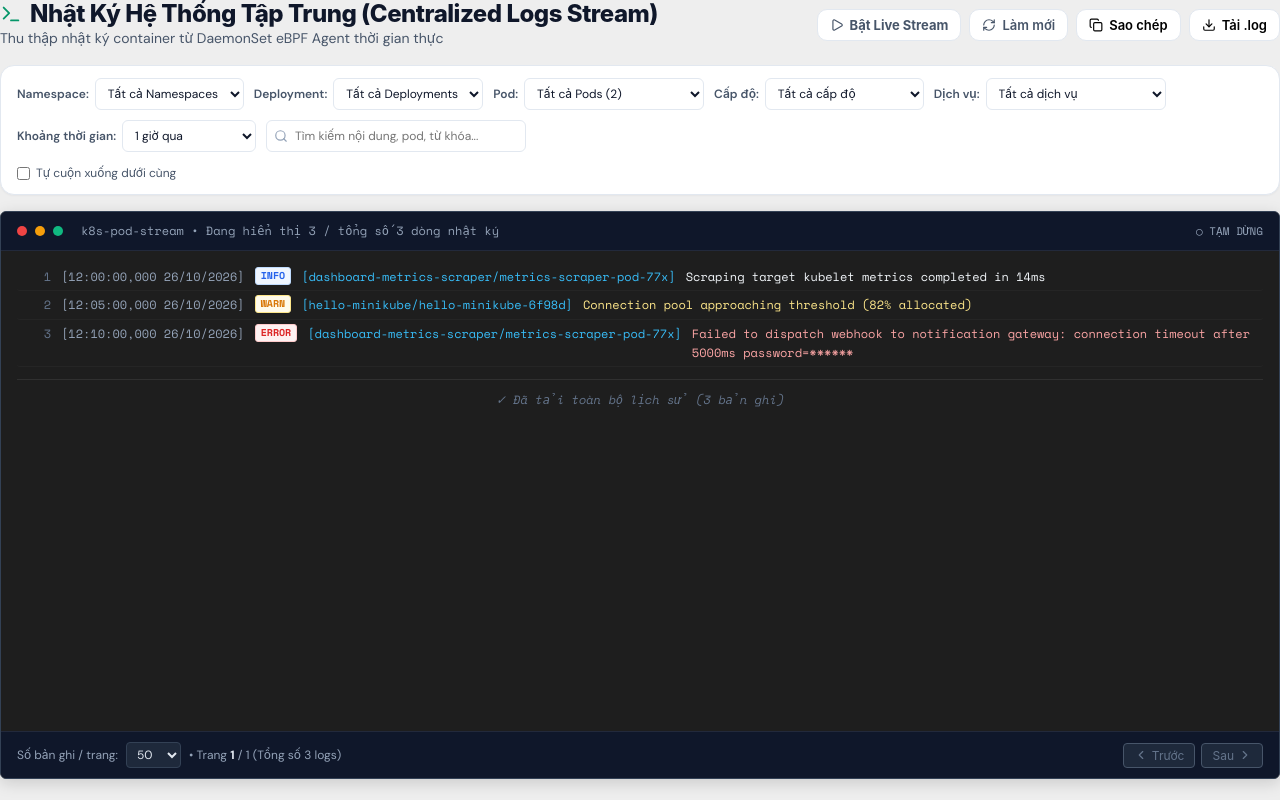
Test: Task [S4][PB17] 3.1 – Centralized Logs Viewer, Filters & Details Suite › 5. Log Detail Modal & Masking › 5.1. Clicking a log row opens detailed modal with message and metadata
Check: the text "Scraping target kubelet metrics completed in 14ms" is shown, box [686, 268, 1046, 285]
Click the element with test id "log-row-1001": x=640, y=277 [17, 263, 1263, 292]
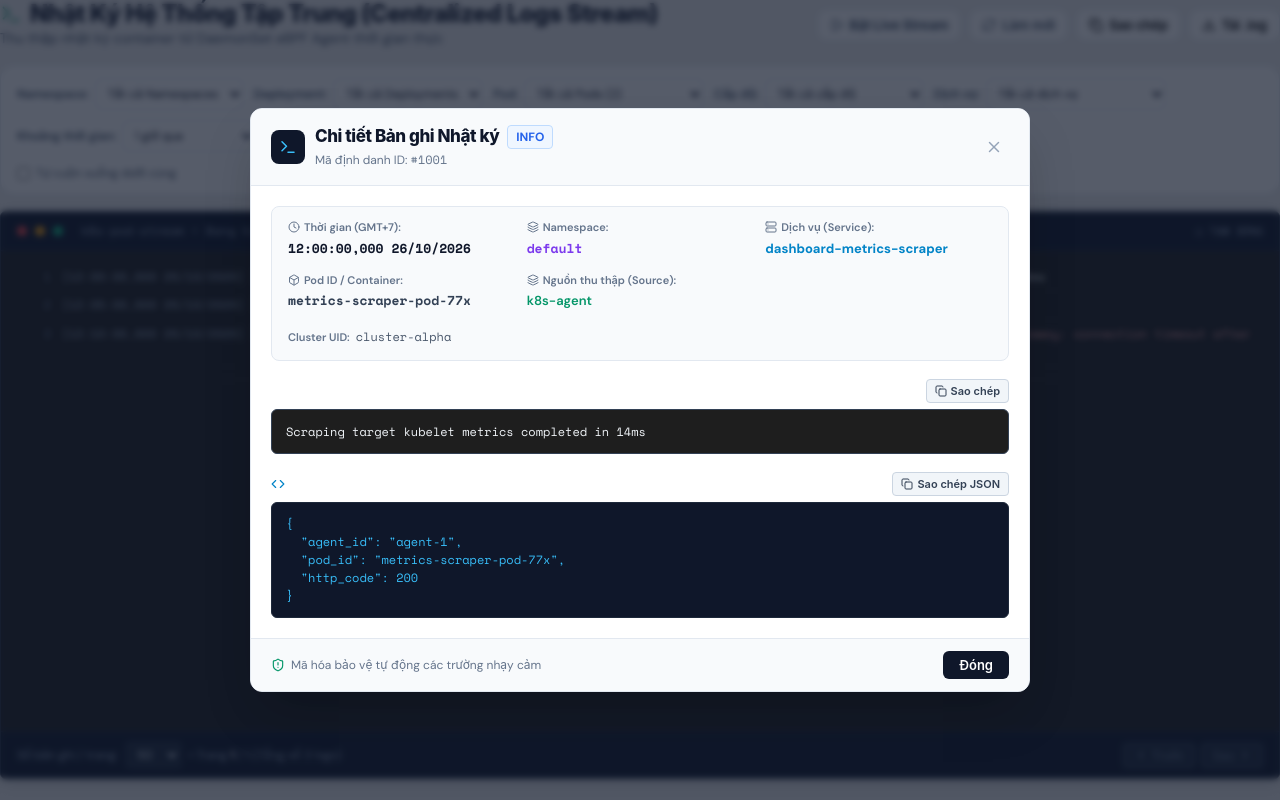
Check: the element with test id "log-detail-modal" is shown, box [250, 108, 1030, 692]
Check: the heading "Chi tiết Bản ghi Nhật ký" is shown, box [315, 127, 499, 146]
Check: the text "metrics-scraper-pod-77x" is shown, box [288, 290, 471, 310]
